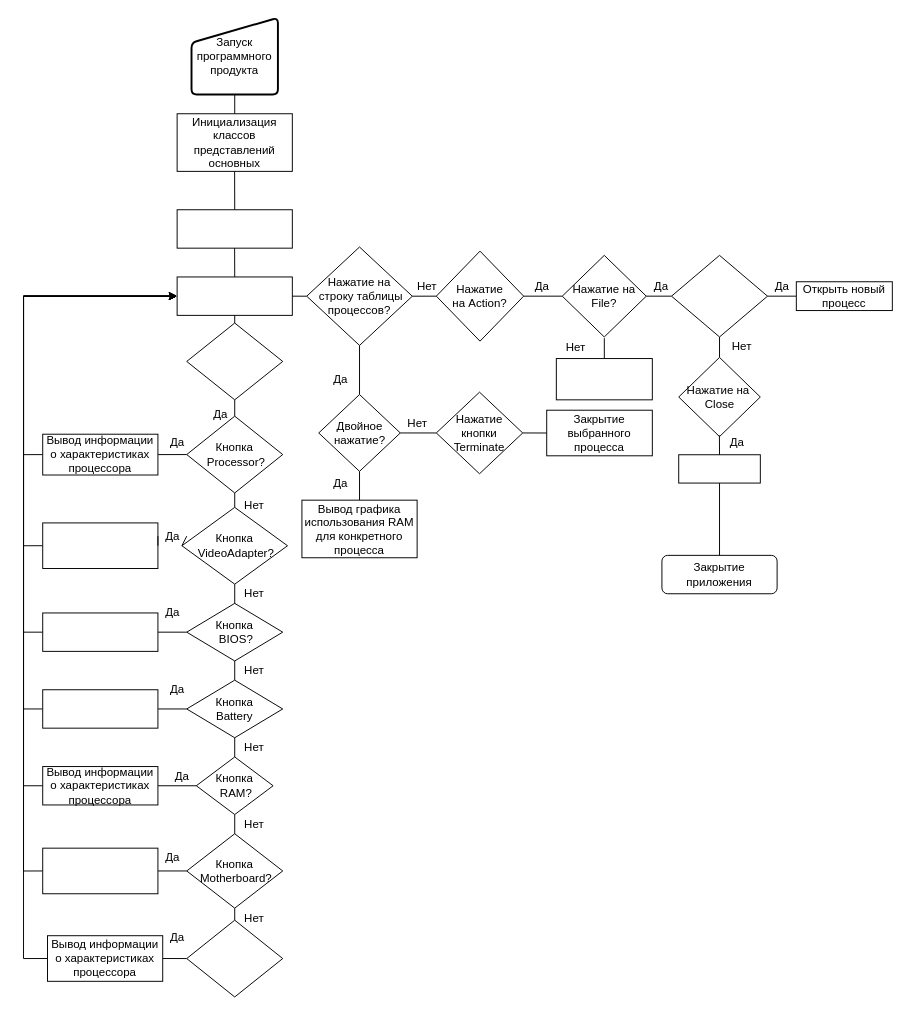
This 909x1014 diagram has some shape labels left out. Here are the shapes that lost their labels. From the top down, the centre of each, then its label:
At (234,228): "Отображение пользовательского интерфейса".
At (234,295): "Обработка нажатий кнопки мыши".
At (719,295): "Нажатие на Open Process?".
At (234,361): "Нажатие на кнопку?".
At (603,379): "Вывод информации о приложении".
At (719,468): "Закрыть приложение".
At (100,545): "Вывод информации о характеристиках видеоадаптера".
At (100,631): "Вывод информации о характеристиках BIOS".
At (100,708): "Вывод информации о характеристиках батареи".
At (100,870): "Вывод информации о характеристиках материнской платы".
At (234,958): "Кнопка NetworkAdapter?".
